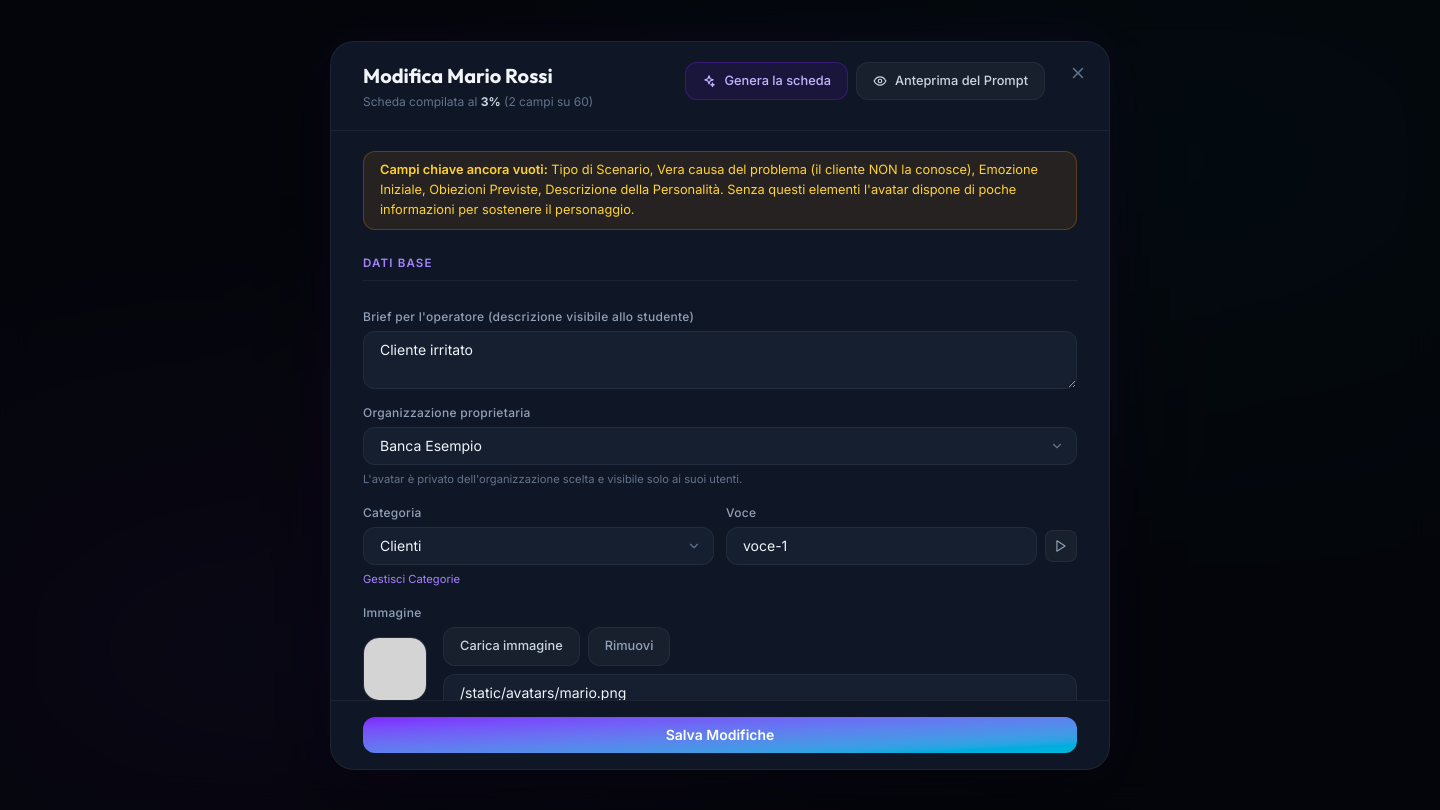
la conferma di uscita › riporta alla scheda chi ci ripensa
Type "!" into the text box labelled "Brief per l'operatore (descrizione visibile allo studente)" at (720, 360), box [363,331,1077,389]
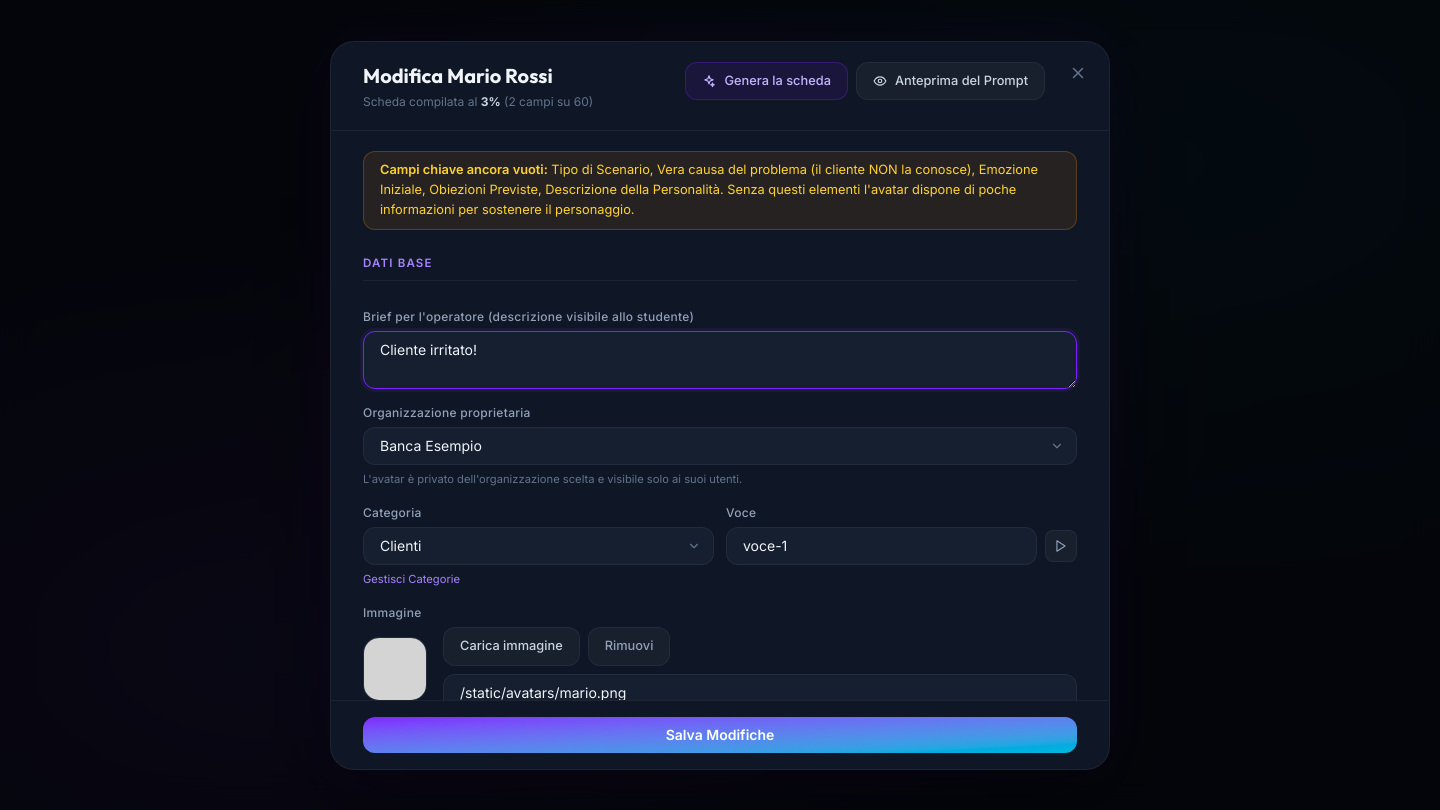
Click the button named "Chiudi" at (1078, 72), box [1063,58,1093,88]
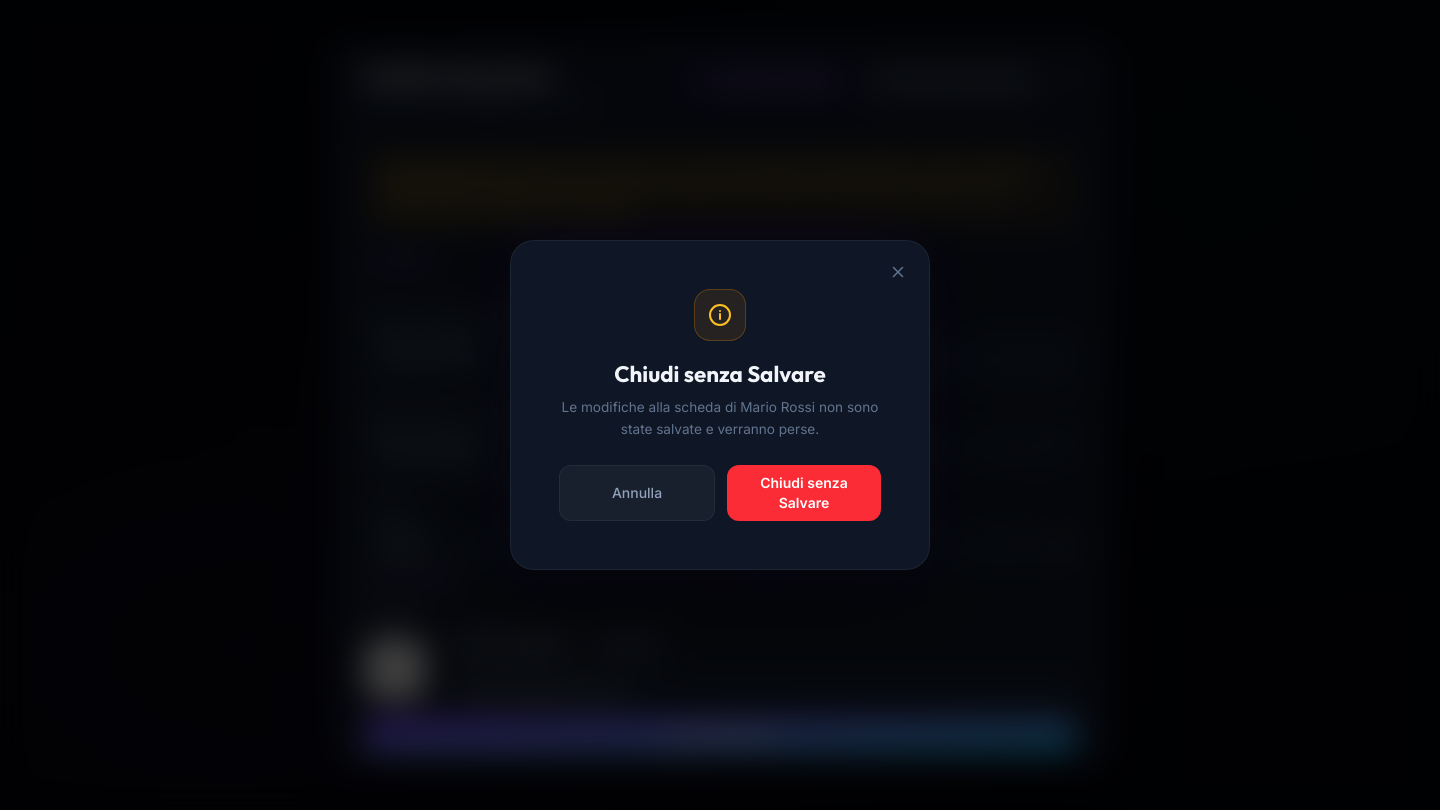
Click the button "Annulla" at (637, 493), box [559,465,715,521]
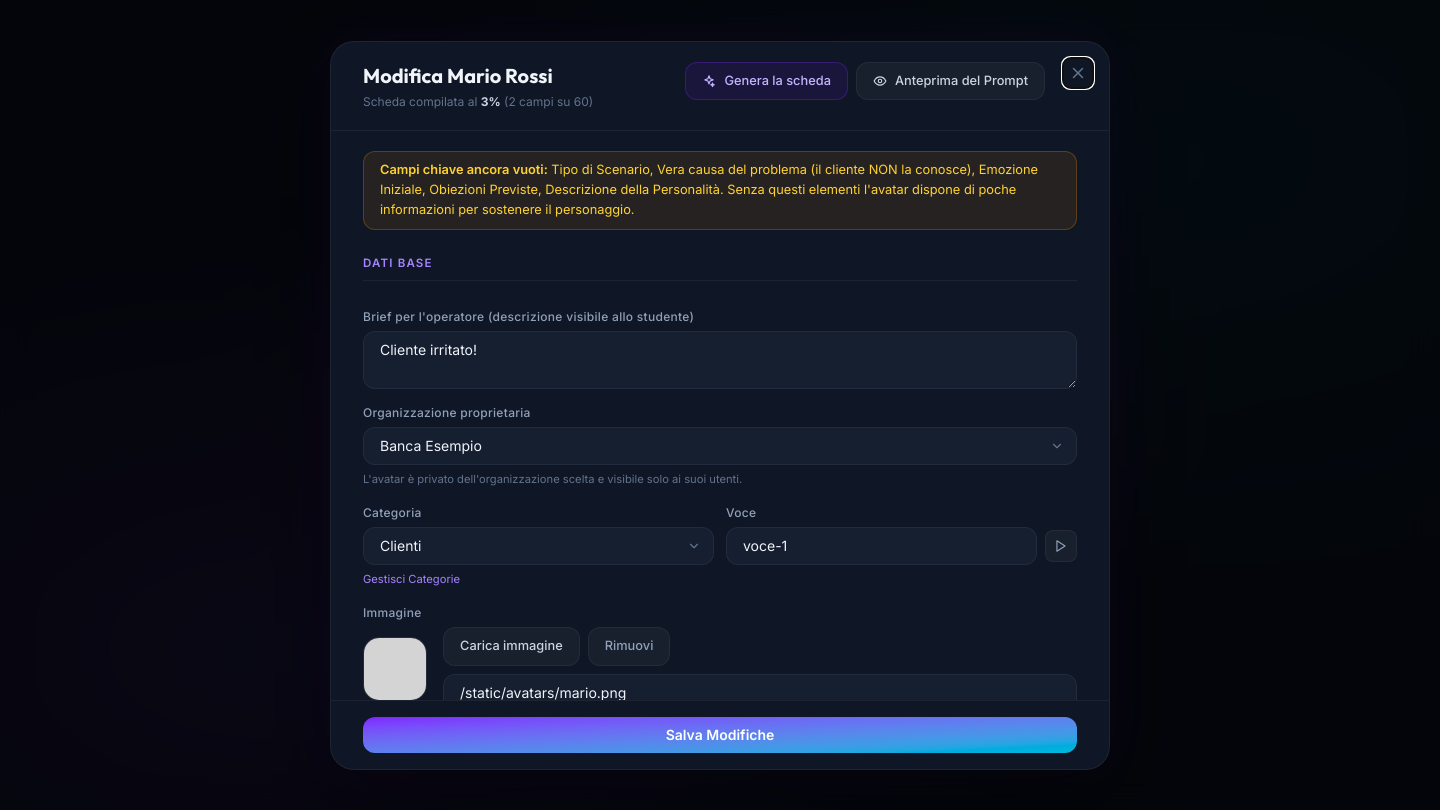
Expected: the text box labelled "Brief per l'operatore (descrizione visibile allo studente)" is shown, [363,331,1077,389]
Expected: the heading "Chiudi senza Salvare" is gone
